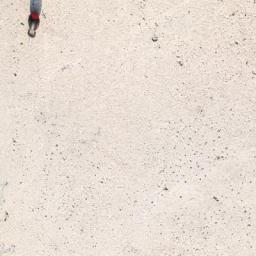FOD: (20, 1, 48, 54)
